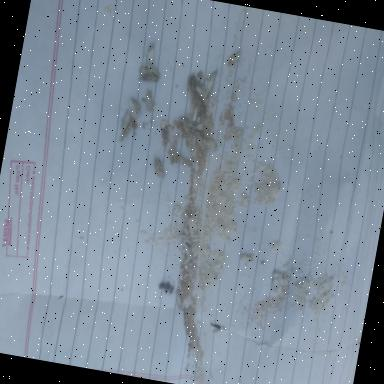pbw: (148, 154, 168, 182), (144, 38, 158, 70), (135, 68, 161, 84), (126, 96, 142, 120), (118, 122, 134, 146), (225, 50, 242, 70), (206, 71, 216, 95), (194, 98, 206, 118), (182, 124, 195, 140), (178, 156, 190, 167)
